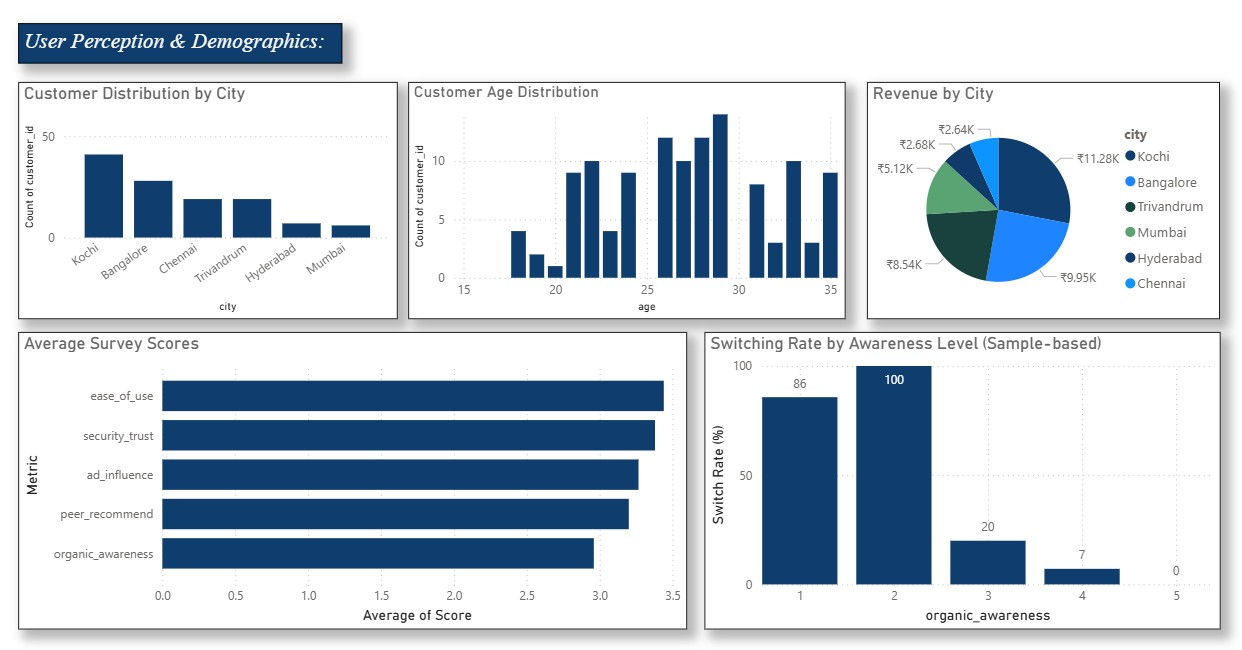

What the dashboard file says about the page in this screenshot:
{"tool":"powerbi","page":{"name":"User Perception & Demographics","canvas":[1280,720],"ordinal":1},"visuals":[{"type":"columnChart","title":"Customer Distribution by City","fields":{"Y":["CountNonNull(app_usage.customer_id)"],"Category":["customers.city"]},"box":[40.9,124,377.4,236],"z":0},{"type":"clusteredColumnChart","title":"Customer Age Distribution","fields":{"Y":["CountNonNull(app_usage.customer_id)"],"Category":["customers.age"]},"box":[429.2,124,435,236],"z":1000},{"type":"pieChart","title":"Revenue by City","fields":{"Category":["customers.city"],"Y":["Sum(app_usage.amount)"]},"box":[886.2,124,351.3,236],"z":2000},{"type":"barChart","title":"Average Survey Scores","fields":{"Category":["survey (2).Metric"],"Y":["Avg(survey (2).Score)"]},"box":[40.9,373.8,665.5,296.4],"z":3000},{"type":"clusteredColumnChart","title":"Switching Rate by Awareness Level (Sample-based)","fields":{"Category":["v_awareness_switch_rate.organic_awareness"],"Y":["v_awareness_switch_rate.Switch Rate (%)"]},"box":[724.5,373.2,513.2,296.4],"z":4000},{"type":"textbox","box":[41.2,65.9,322.5,39.8],"z":5000}]}

Visuals, with their boxes on the page's 1280x720 design canvas (x1, y1, x2, y2). These are canvas units, not pixel positions in the 1242x650 screenshot, which may show the page scaled, cropped or inside an application window:
"Customer Distribution by City" columnChart: detection(41, 124, 418, 360)
"Customer Age Distribution" clusteredColumnChart: detection(429, 124, 864, 360)
"Revenue by City" pieChart: detection(886, 124, 1238, 360)
"Average Survey Scores" barChart: detection(41, 374, 706, 670)
"Switching Rate by Awareness Level (Sample-based)" clusteredColumnChart: detection(724, 373, 1238, 670)
textbox: detection(41, 66, 364, 106)
